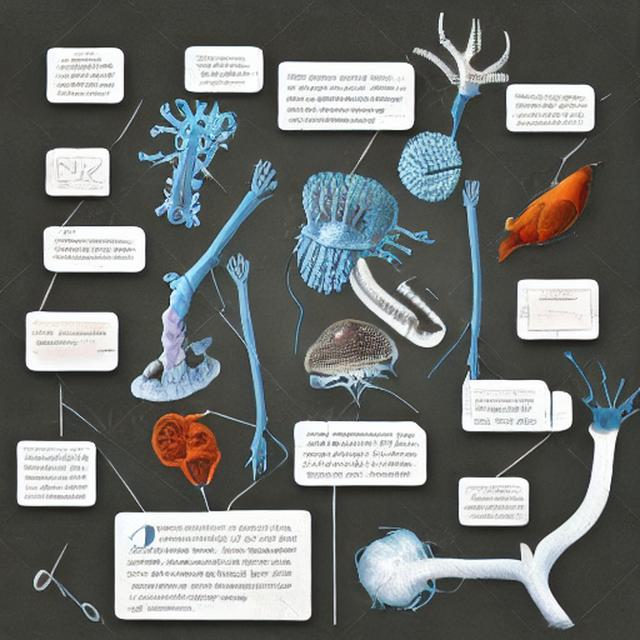Graph: (519, 297, 587, 336), (50, 154, 105, 193)
